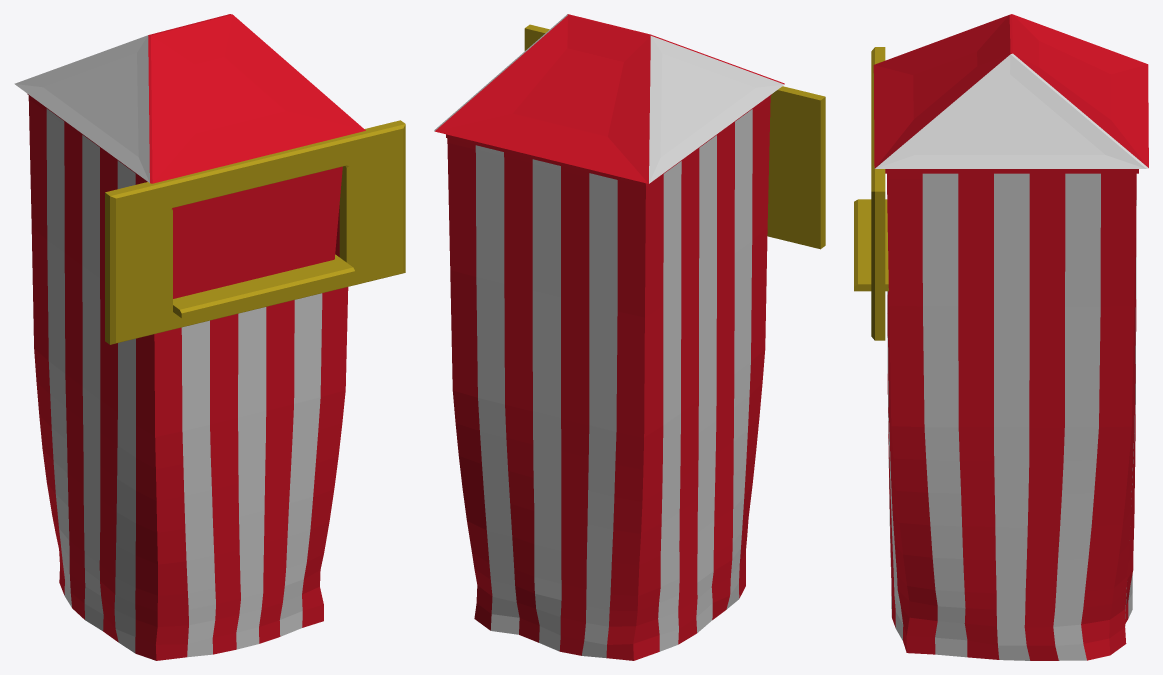
Rendered from punch.fbx.
3 renders of one model, left to right at view 1: azimuth 30°, elevation 25°; view 2: azimuth 150°, elevation 25°; view 3: azimuth 270°, elevation 25°, orthographic.
Parts seen in each view (by area): view 1: Cube.001; view 2: Cube.001; view 3: Cube.001.
Part boxes in pixels (x1,y1,x2,y2): Cube.001: (14, 14, 405, 660); Cube.001: (434, 14, 825, 660); Cube.001: (854, 14, 1148, 660).
Size of the model in its own units: 119 by 224 by 103.
